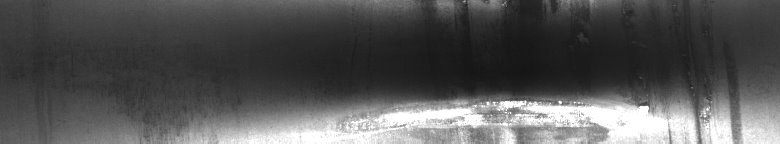ke: (351, 4, 744, 136)
